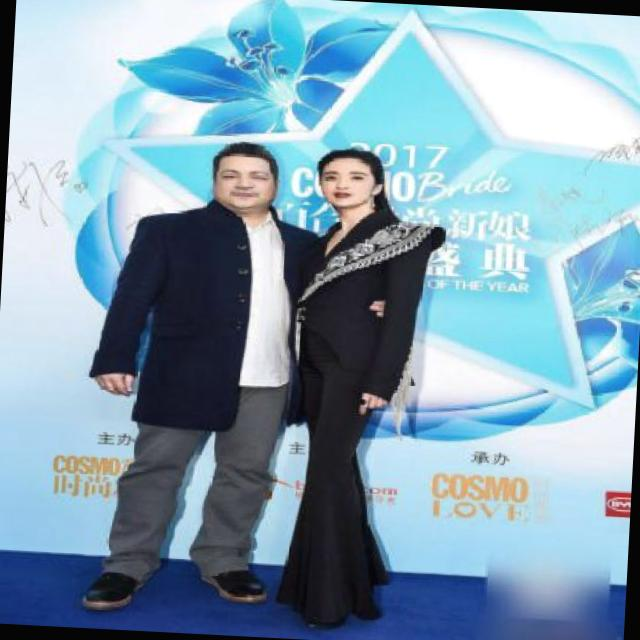Person: (69, 129, 305, 625), (265, 126, 440, 629)
